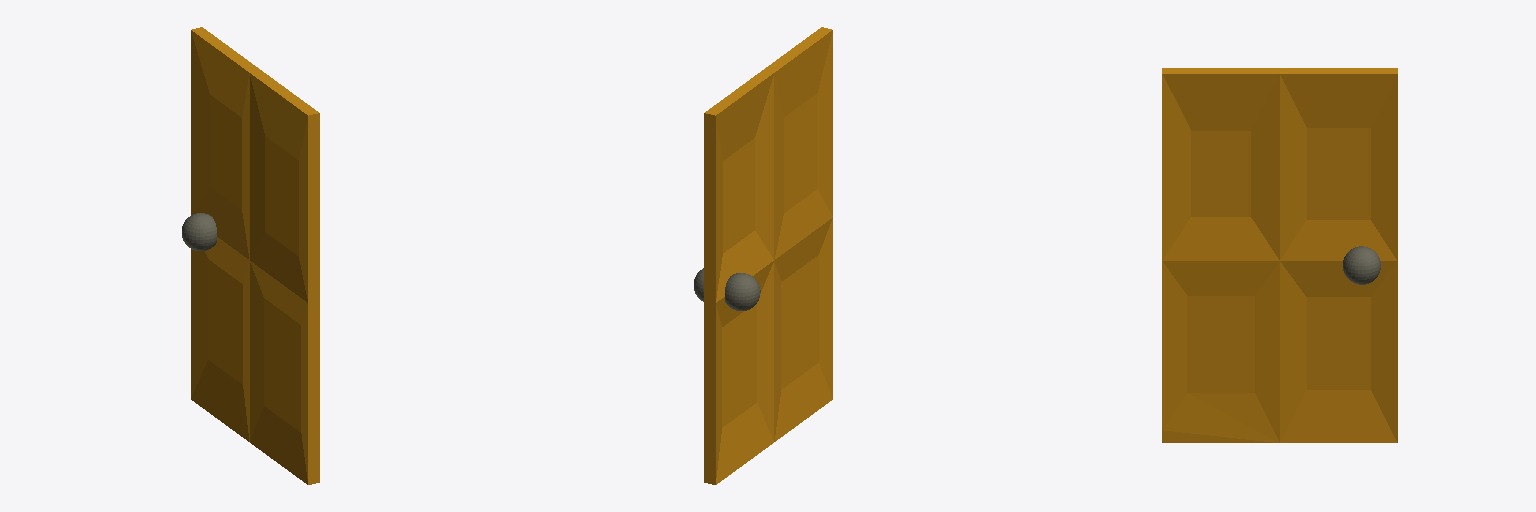
Rendered from door.obj.
The picture shows the model from 3 angles: view 1: azimuth 30°, elevation 25°; view 2: azimuth 150°, elevation 25°; view 3: azimuth 270°, elevation 25°; orthographic projection.
Parts seen in each view (by area): view 1: Cube; view 2: Cube; view 3: Cube.
Boxes of the visible parts, x1=… form: Cube: x1=182, y1=27, x2=319, y2=484; Cube: x1=694, y1=27, x2=832, y2=484; Cube: x1=1162, y1=68, x2=1397, y2=442.
Size of the model in its own units: 1.55 by 8.85 by 5.1.